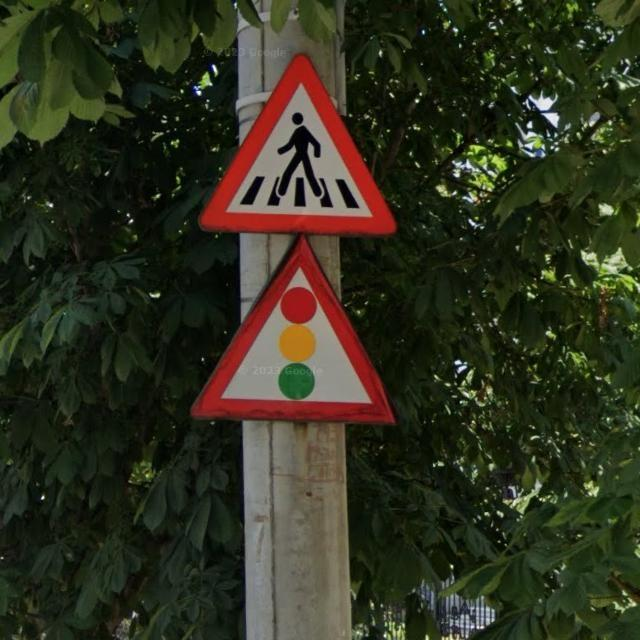warn_crosswalk: (198, 56, 397, 237)
